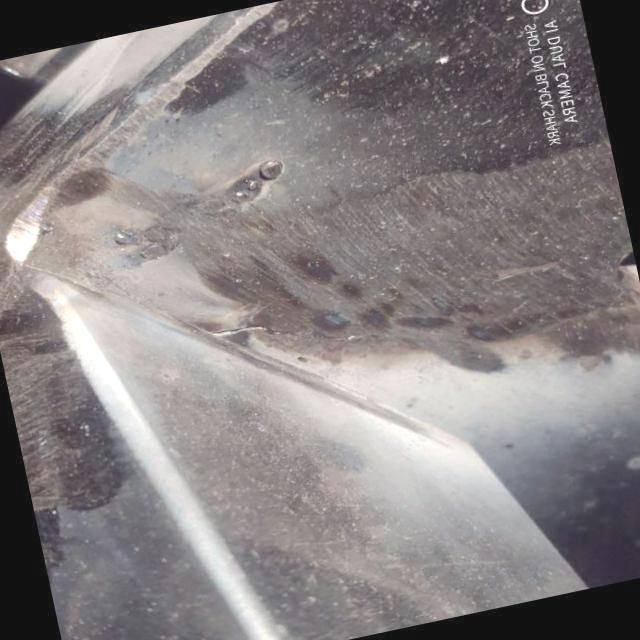defect: (204, 318, 368, 348)
